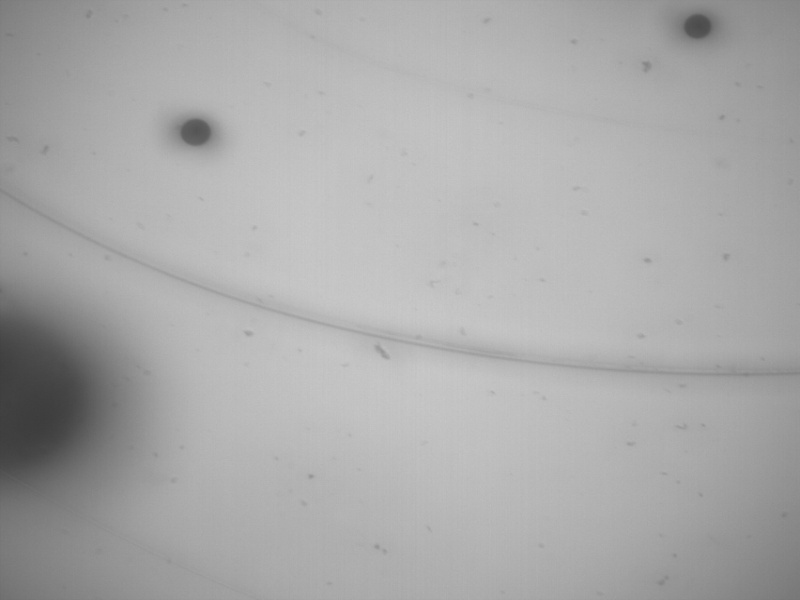bead: (1, 317, 91, 482), (180, 117, 211, 148), (683, 13, 711, 39)
fiber: (1, 186, 800, 387)
